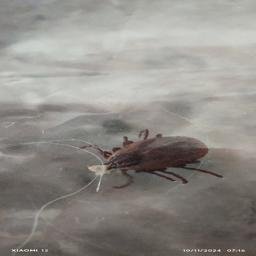Rhipicephalus sanguineus: (81, 128, 225, 189)
